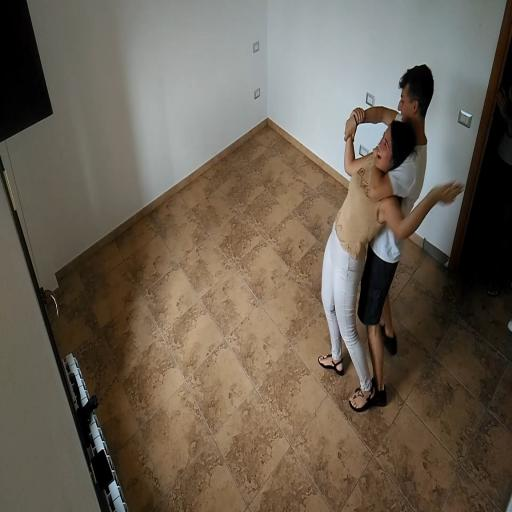violencia: (317, 50, 469, 426)
